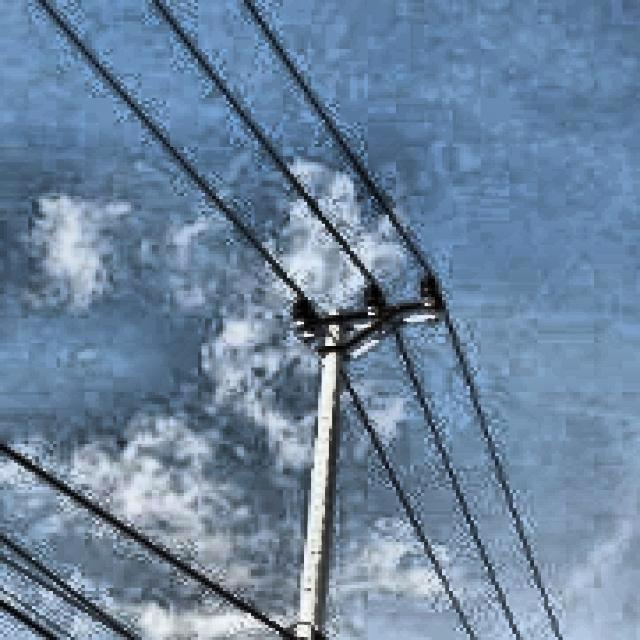crossarm: (306, 302, 446, 330)
pole: (294, 305, 344, 640)
wire: (33, 0, 480, 640), (146, 1, 526, 640), (241, 1, 569, 640), (0, 440, 287, 640), (0, 534, 145, 640), (1, 599, 61, 640)
